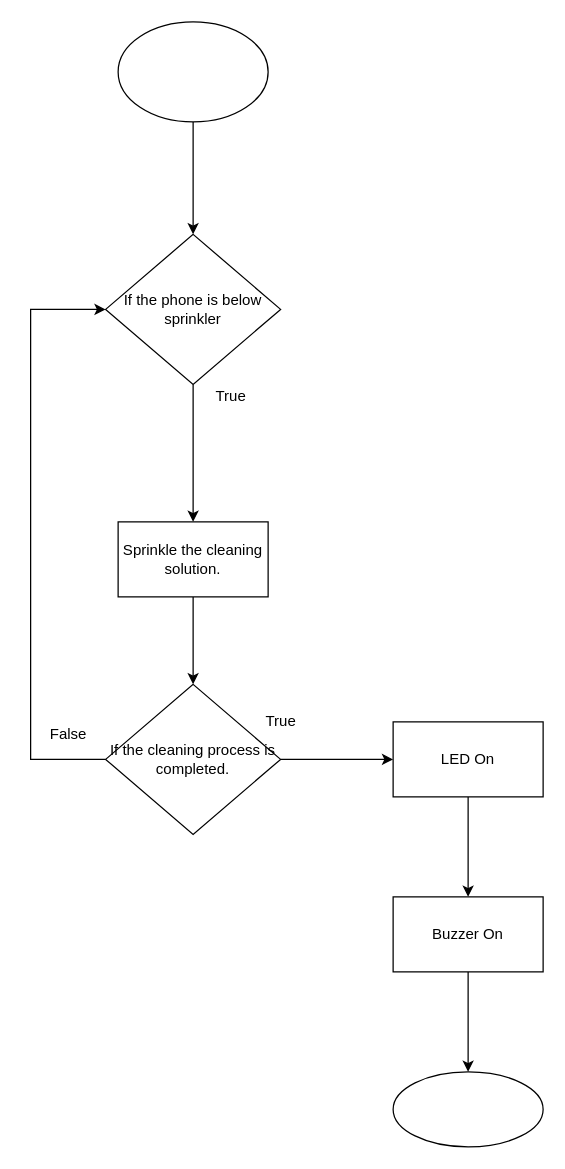
The diagram is 565 pixels wide and 1169 high, and some of its shapes have lost their labels. Here are the shapes that lost their labels. From the top down, the centre of each, then its label:
(x=192, y=71): START
(x=467, y=1109): STOP
